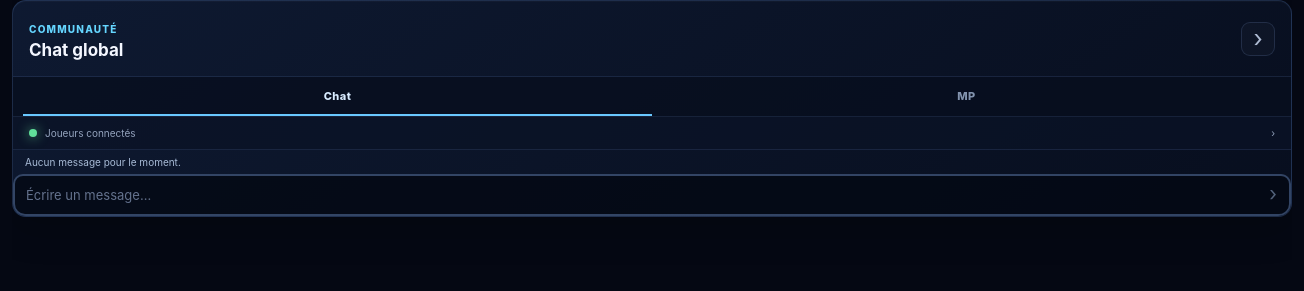
opens the explicit active Profile destination after tab activation; existing pair=true
Click the tab "MP". click: (966, 96)
box: left=652, top=77, right=1281, bottom=116
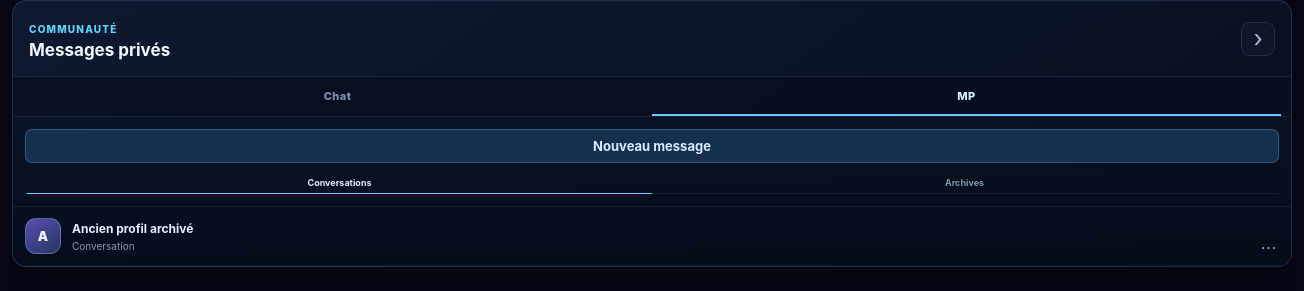
Click the element with class "dm-conversation-row". click: (652, 236)
box: left=13, top=207, right=1291, bottom=266
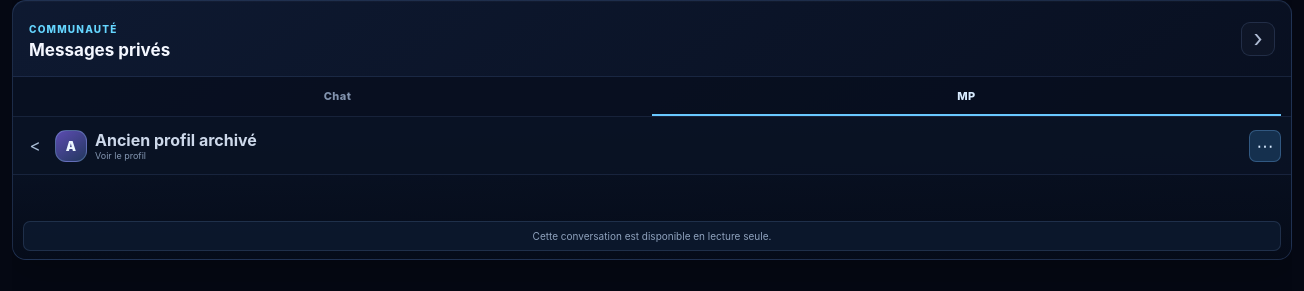
Result: the text "lecture seule" is shown at left=533, top=230, right=771, bottom=242
Click the tab "Chat". click: (338, 96)
box: left=23, top=77, right=652, bottom=116
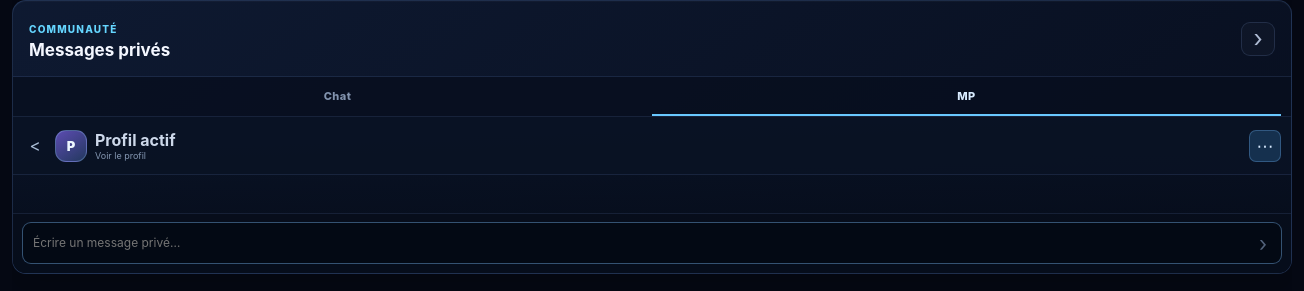
Result: the header with class "dm-thread-header" shows "Profil actif" at left=55, top=130, right=1241, bottom=162
Result: the text "lecture seule" is gone
Result: the text box with id "dm-message" is shown at left=22, top=222, right=1282, bottom=264
